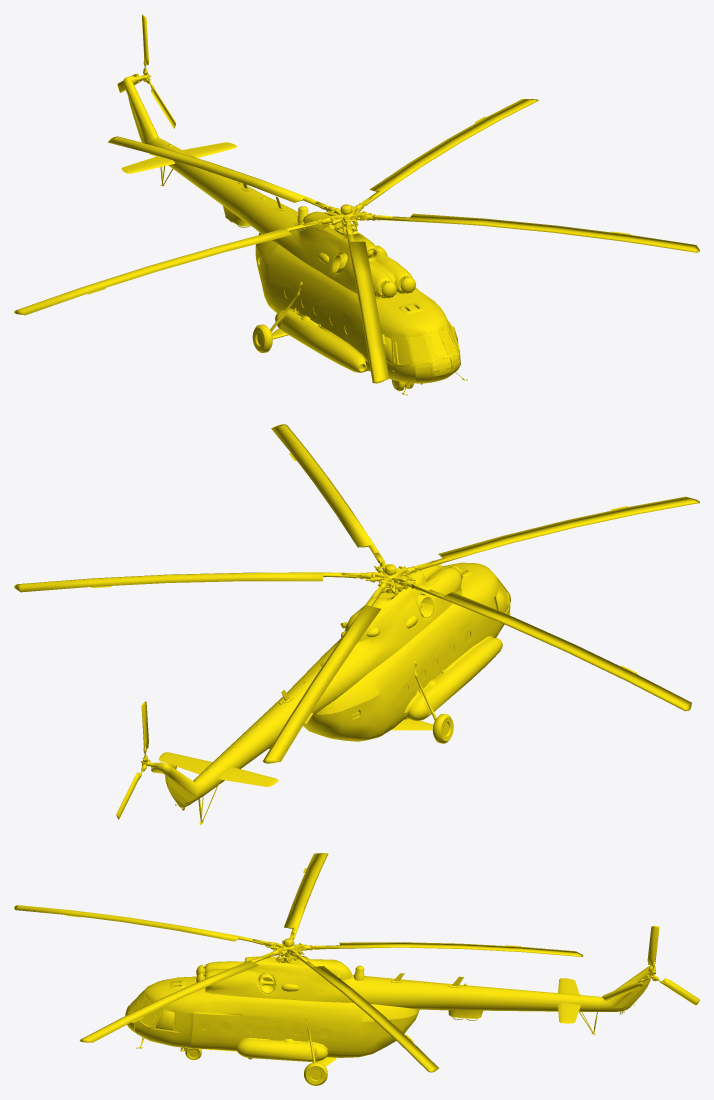
The model's file is mi8_colored_base_yellow.glb.
3 views of the same model, one above another, from view 1: azimuth 30°, elevation 25°; view 2: azimuth 150°, elevation 25°; view 3: azimuth 270°, elevation 25° (orthographic). The views are drawn at different scales.
Parts seen in each view (by area): view 1: mi8_Material #2460_0, lopocty_Material #1469_0, mi8_Material #2419_0, mi8_Material #1468_0, lopocty_Material #1470_0, zad.vint_Material #1473_0; view 2: mi8_Material #2460_0, lopocty_Material #1469_0, lopocty_Material #1470_0, mi8_Material #1468_0, mi8_Material #2419_0, zad.vint_Material #1473_0; view 3: mi8_Material #2460_0, lopocty_Material #1469_0, mi8_Material #2419_0, mi8_Material #1468_0, zad.vint_Material #1473_0, lopocty_Material #1470_0, dver_Material #2460_0.
Part boxes in pixels (left/top/right/bottom): mi8_Material #2460_0: left=121, top=75, right=464, bottom=394; lopocty_Material #1469_0: left=14, top=99, right=699, bottom=383; mi8_Material #2419_0: left=284, top=286, right=459, bottom=382; mi8_Material #1468_0: left=162, top=167, right=467, bottom=395; lopocty_Material #1470_0: left=303, top=197, right=392, bottom=234; zad.vint_Material #1473_0: left=117, top=14, right=175, bottom=128; mi8_Material #2460_0: left=146, top=560, right=510, bottom=824; lopocty_Material #1469_0: left=14, top=424, right=699, bottom=763; lopocty_Material #1470_0: left=341, top=552, right=431, bottom=597; mi8_Material #1468_0: left=175, top=584, right=453, bottom=810; mi8_Material #2419_0: left=402, top=577, right=510, bottom=695; zad.vint_Material #1473_0: left=116, top=701, right=176, bottom=819; mi8_Material #2460_0: left=127, top=956, right=655, bottom=1066; lopocty_Material #1469_0: left=14, top=853, right=583, bottom=1072; mi8_Material #2419_0: left=125, top=990, right=330, bottom=1036; mi8_Material #1468_0: left=136, top=956, right=634, bottom=1085; zad.vint_Material #1473_0: left=602, top=926, right=699, bottom=1005; lopocty_Material #1470_0: left=252, top=932, right=326, bottom=962; dver_Material #2460_0: left=191, top=1013, right=216, bottom=1049.
Bounding box in the file's own units: 22.03 × 5.98 × 26.72.
